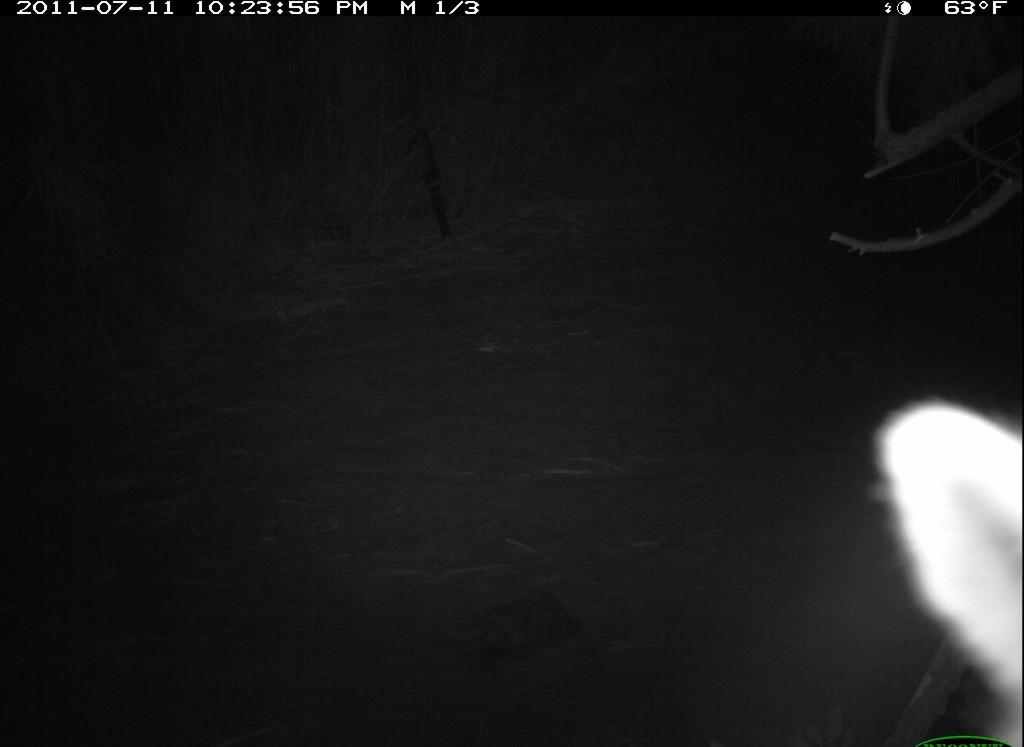raccoon: (865, 382, 1023, 745)
